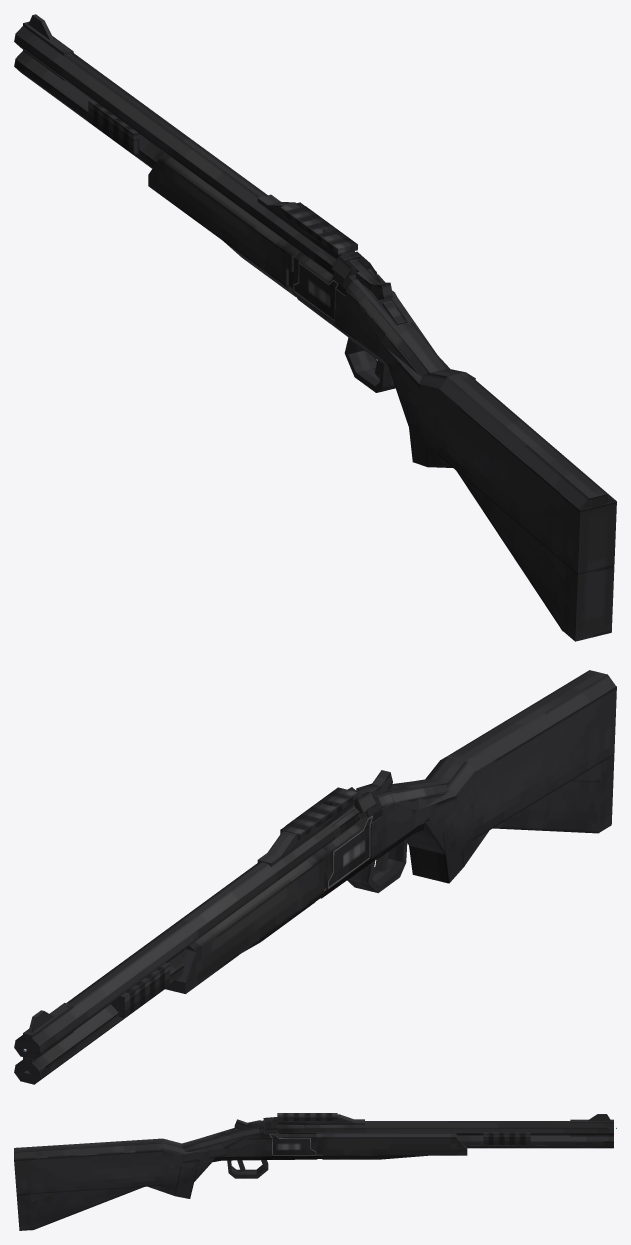
3 views of the same model, one above another, from view 1: azimuth 30°, elevation 25°; view 2: azimuth 150°, elevation 25°; view 3: azimuth 270°, elevation 25° (orthographic). The views are drawn at different scales.
Visible parts, largest first — view 1: gun_88, barrels_28; view 2: gun_88, barrels_28; view 3: gun_88, barrels_28, bone_4.
Part boxes in pixels (x1,y1,x2,y2): gun_88: [292, 251, 616, 641]; barrels_28: [14, 14, 357, 296]; gun_88: [321, 670, 616, 898]; barrels_28: [14, 787, 361, 1084]; gun_88: [14, 1117, 317, 1230]; barrels_28: [277, 1113, 613, 1159]; bone_4: [234, 1119, 271, 1130].
Bounding box in the file's own units: 0.2567 × 1.4 × 6.82.
